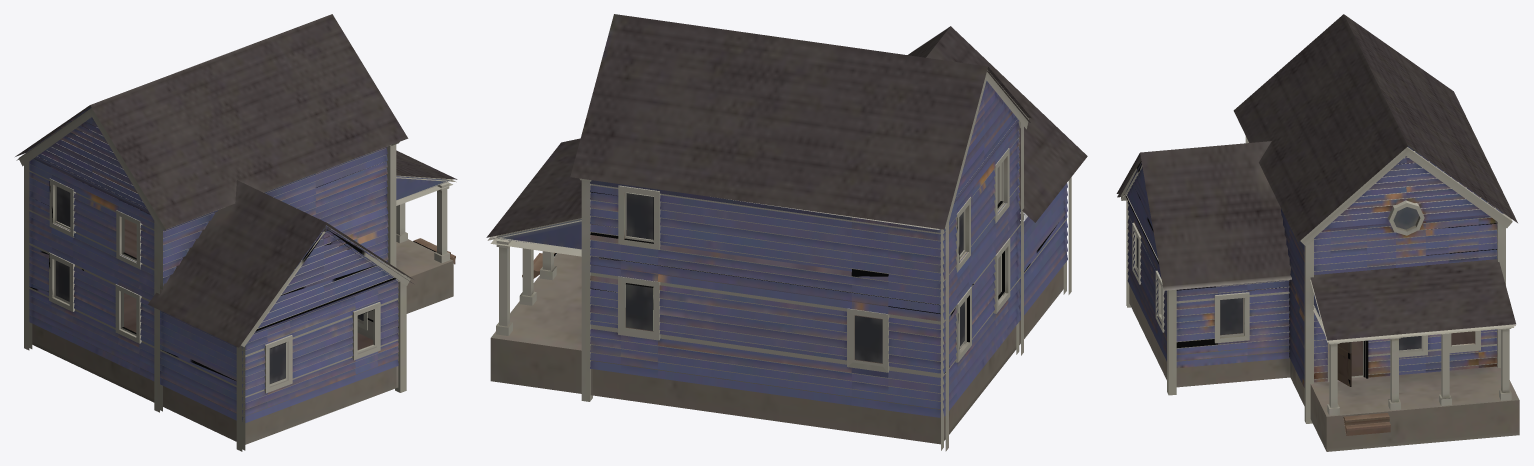
File: casa_p2.glb
The picture shows the model from 3 angles, left to right: view 1: azimuth 30°, elevation 25°; view 2: azimuth 150°, elevation 25°; view 3: azimuth 270°, elevation 25°; orthographic projection. The views are drawn at different scales.
Parts seen in each view (by area): view 1: ext; view 2: ext; view 3: ext.
Boxes of the visible parts, left/top/right/bottom form: ext: left=15, top=14, right=457, bottom=451; ext: left=486, top=14, right=1087, bottom=451; ext: left=1116, top=14, right=1519, bottom=451.
Size of what is drawn, in the model's own units: 10.39 by 7.08 by 9.5.
1 material, 1 textured.
